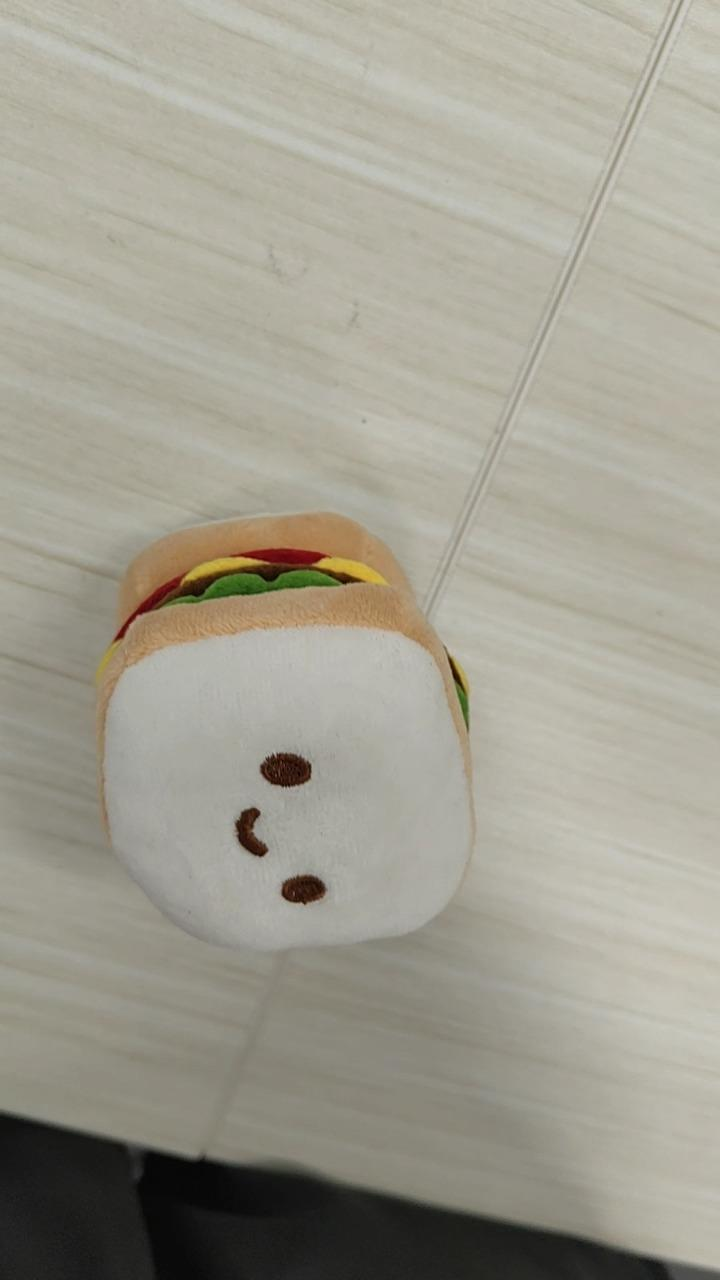objects: (94, 508, 477, 952)
